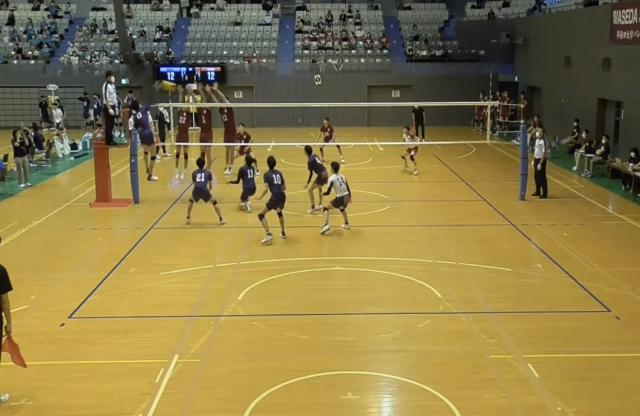spike: (127, 80, 167, 186)
